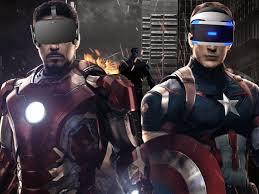oculus: (185, 17, 236, 49), (33, 16, 79, 45)
